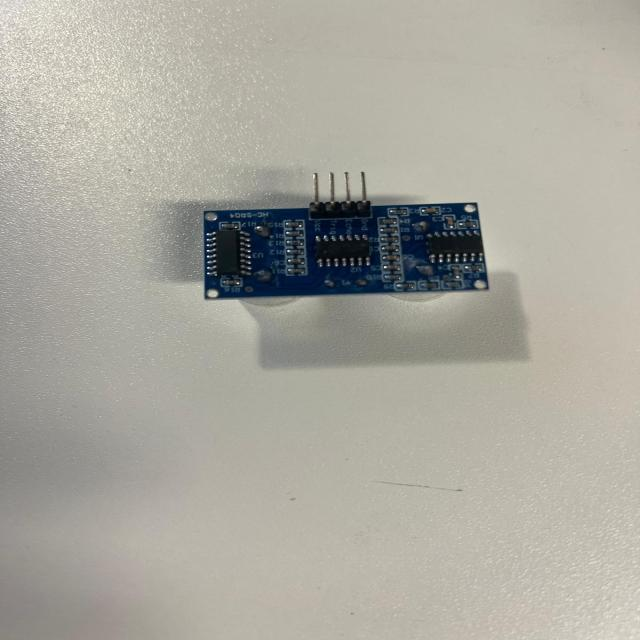UltrasoneSensor: (181, 173, 524, 329)
